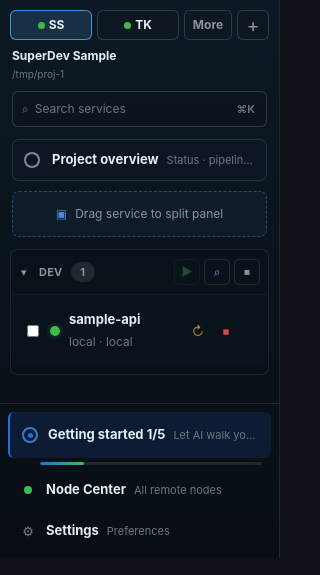
SidebarView › 侧边栏以项目 chips 展示当前项目，单击 chip 后只显示该项目服务
The width and height of the screenshot is (320, 575).
Expected: the button with test id "project-chip-proj-1" reads "SS", left=10, top=10, right=92, bottom=40
Expected: the text "server" is not shown
Click the button with test id "project-chip-proj-2": (138, 25) left=97, top=10, right=179, bottom=40
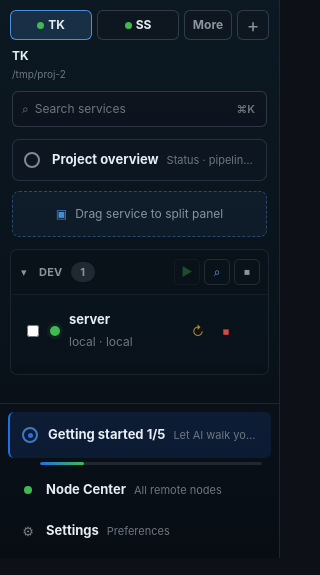
Now the text "server" is shown, box left=69, top=310, right=110, bottom=329
Now the text "sample-api" is gone
